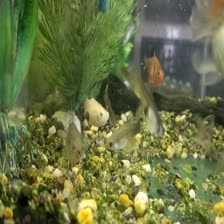Guppy: (128, 78, 165, 136), (103, 115, 145, 153), (55, 118, 85, 159), (81, 94, 112, 124)
Transparente: (145, 41, 169, 80)
